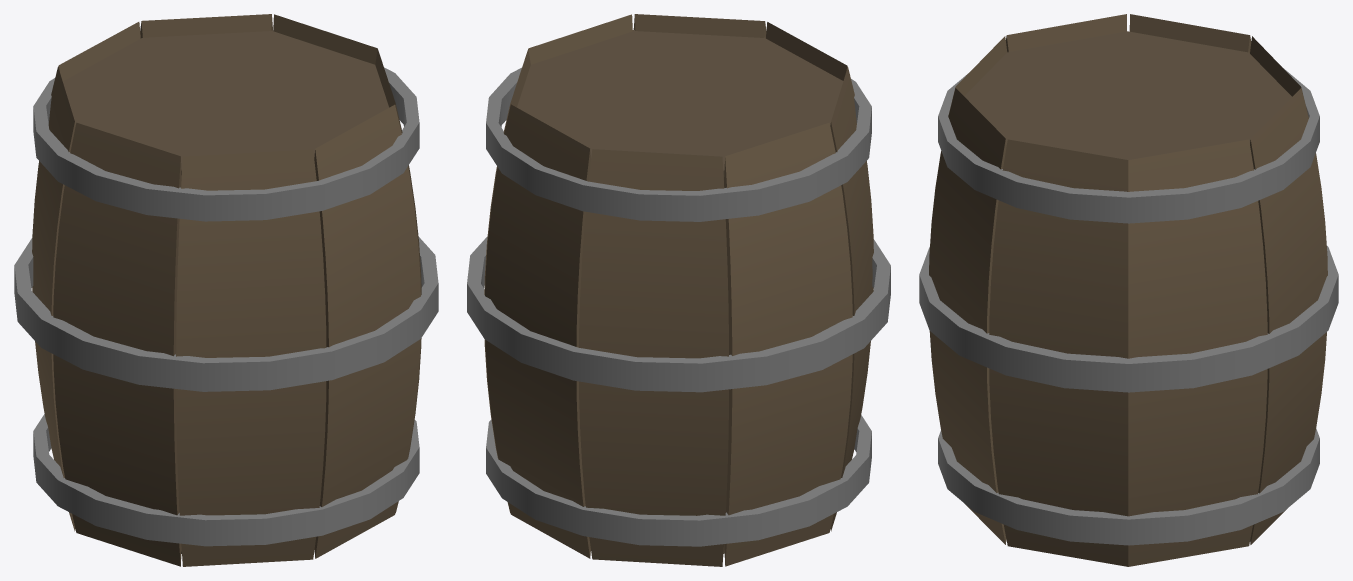
Rendered from FMP_Barrel_Shaded.fbx.
3 views of the same model, side by side, from view 1: azimuth 30°, elevation 25°; view 2: azimuth 150°, elevation 25°; view 3: azimuth 270°, elevation 25° (orthographic).
Parts seen in each view (by area): view 1: polySurface10; view 2: polySurface10; view 3: polySurface10.
Boxes of the visible parts, box(x1,y1,x2,y2) form: polySurface10: box(14, 14, 438, 566); polySurface10: box(467, 14, 890, 566); polySurface10: box(919, 14, 1338, 566).
Bounding box in the file's own units: 186 × 197 × 184.
